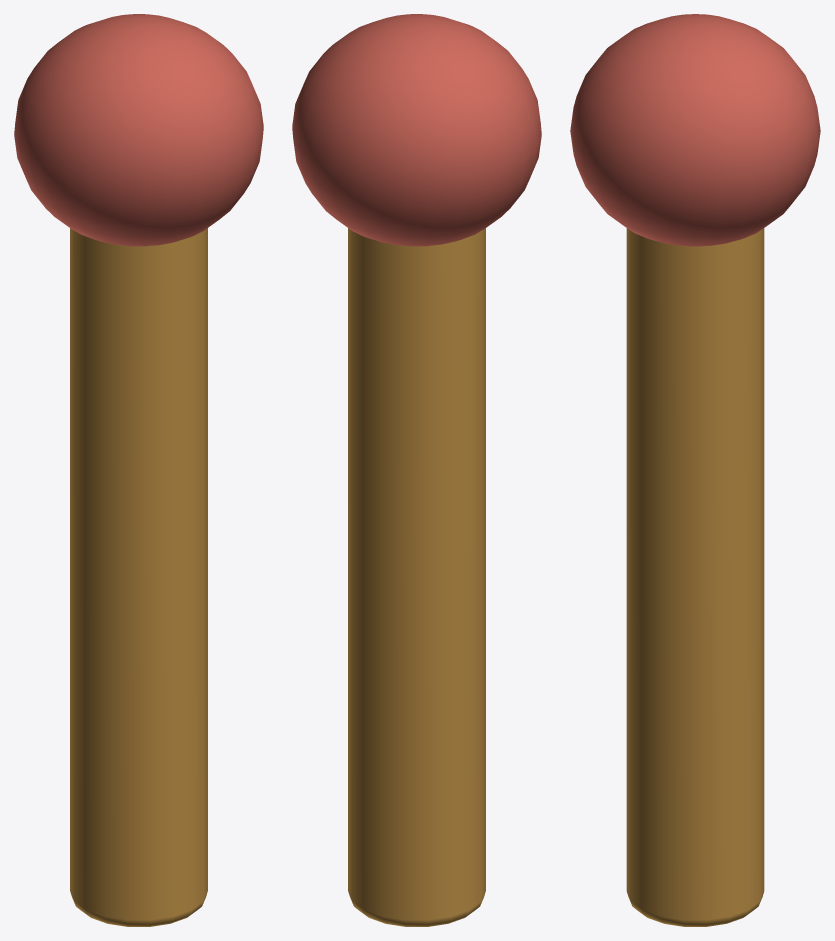
File: prop_fishing_marker.glb
3 renders of one model, left to right at view 1: azimuth 30°, elevation 25°; view 2: azimuth 150°, elevation 25°; view 3: azimuth 270°, elevation 25°, orthographic.
Visible parts, largest first — view 1: fmk_pole, fmk_buoy; view 2: fmk_pole, fmk_buoy; view 3: fmk_pole, fmk_buoy.
Boxes of the visible parts, x1,y1,x2,y2 form: fmk_pole: (70,228,207,926); fmk_buoy: (14,14,263,246); fmk_pole: (348,228,485,926); fmk_buoy: (292,14,541,246); fmk_pole: (626,228,764,926); fmk_buoy: (570,14,820,246).
Bounding box in the file's own units: 0.2 × 0.772 × 0.2.
